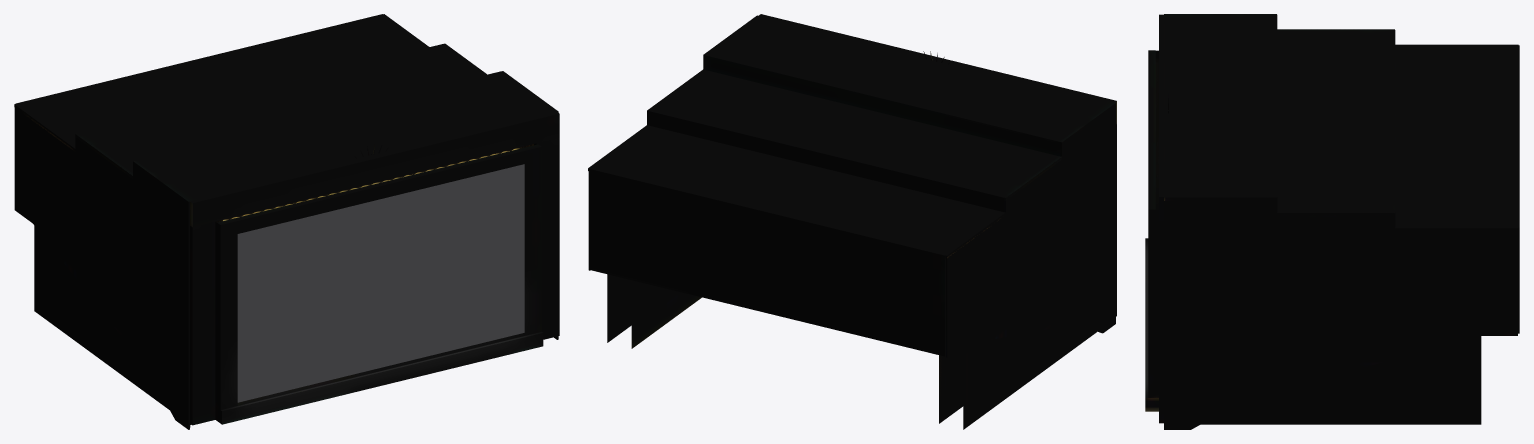
Rendered from palace.glb.
The picture shows the model from 3 angles, left to right: view 1: azimuth 30°, elevation 25°; view 2: azimuth 150°, elevation 25°; view 3: azimuth 270°, elevation 25°; orthographic projection. The views are drawn at different scales.
Visible parts, largest first — view 1: hall, lights, walls@R; view 2: hall, walls@R, rows, walls@L; view 3: hall, walls@L.
Boxes of the visible parts, x1=… form: hall: x1=14, y1=14, x2=559, y2=425; lights: x1=237, y1=164, x2=524, y2=402; walls@R: x1=14, y1=105, x2=190, y2=429; hall: x1=588, y1=14, x2=1116, y2=356; walls@R: x1=939, y1=106, x2=1115, y2=429; rows: x1=631, y1=280, x2=963, y2=423; walls@L: x1=588, y1=15, x2=757, y2=346; hall: x1=1145, y1=14, x2=1519, y2=424; walls@L: x1=1164, y1=197, x2=1517, y2=429.
Bounding box in the file's own units: 25.8 × 15.83 × 22.2.
14 materials, 6 textured.
